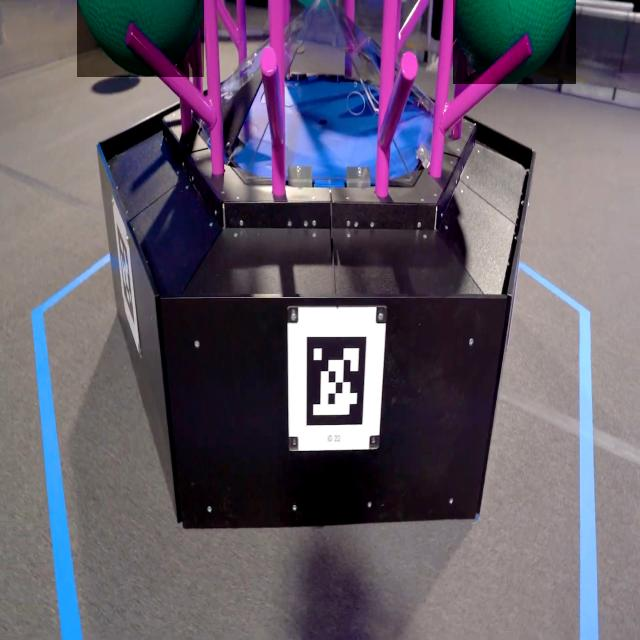Algae: (453, 0, 576, 84), (77, 0, 204, 77)
